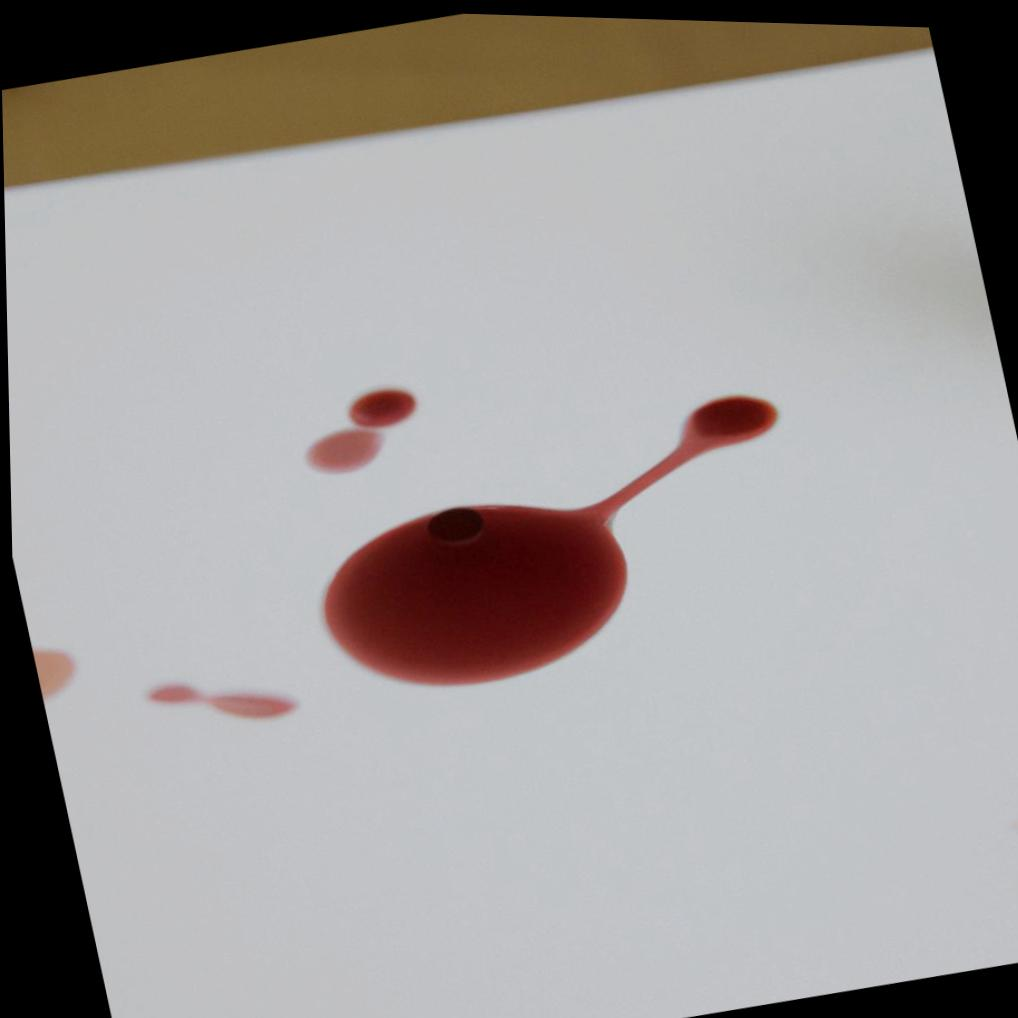Fire: (321, 390, 776, 682), (302, 385, 415, 471)
